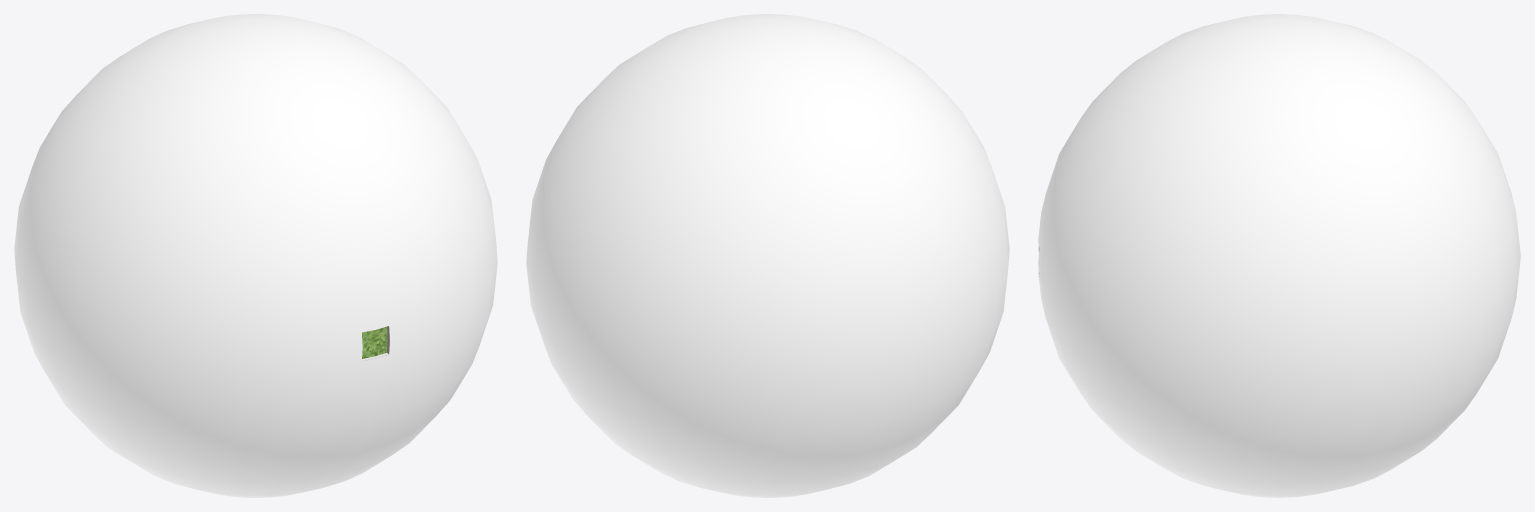
File: image-portal.glb
3 renders of one model, left to right at view 1: azimuth 30°, elevation 25°; view 2: azimuth 150°, elevation 25°; view 3: azimuth 270°, elevation 25°, orthographic.
Parts seen in each view (by area): view 1: occluder, photoSphere; view 2: occluder; view 3: occluder.
Boxes of the visible parts, x1,y1,x2,y2 form: occluder: [14, 14, 497, 497]; photoSphere: [362, 326, 387, 358]; occluder: [526, 14, 1009, 497]; occluder: [1038, 14, 1520, 497].
Bounding box in the file's own units: 15.3 × 15.3 × 15.25.
Materials: 3 (1 with a texture image).
